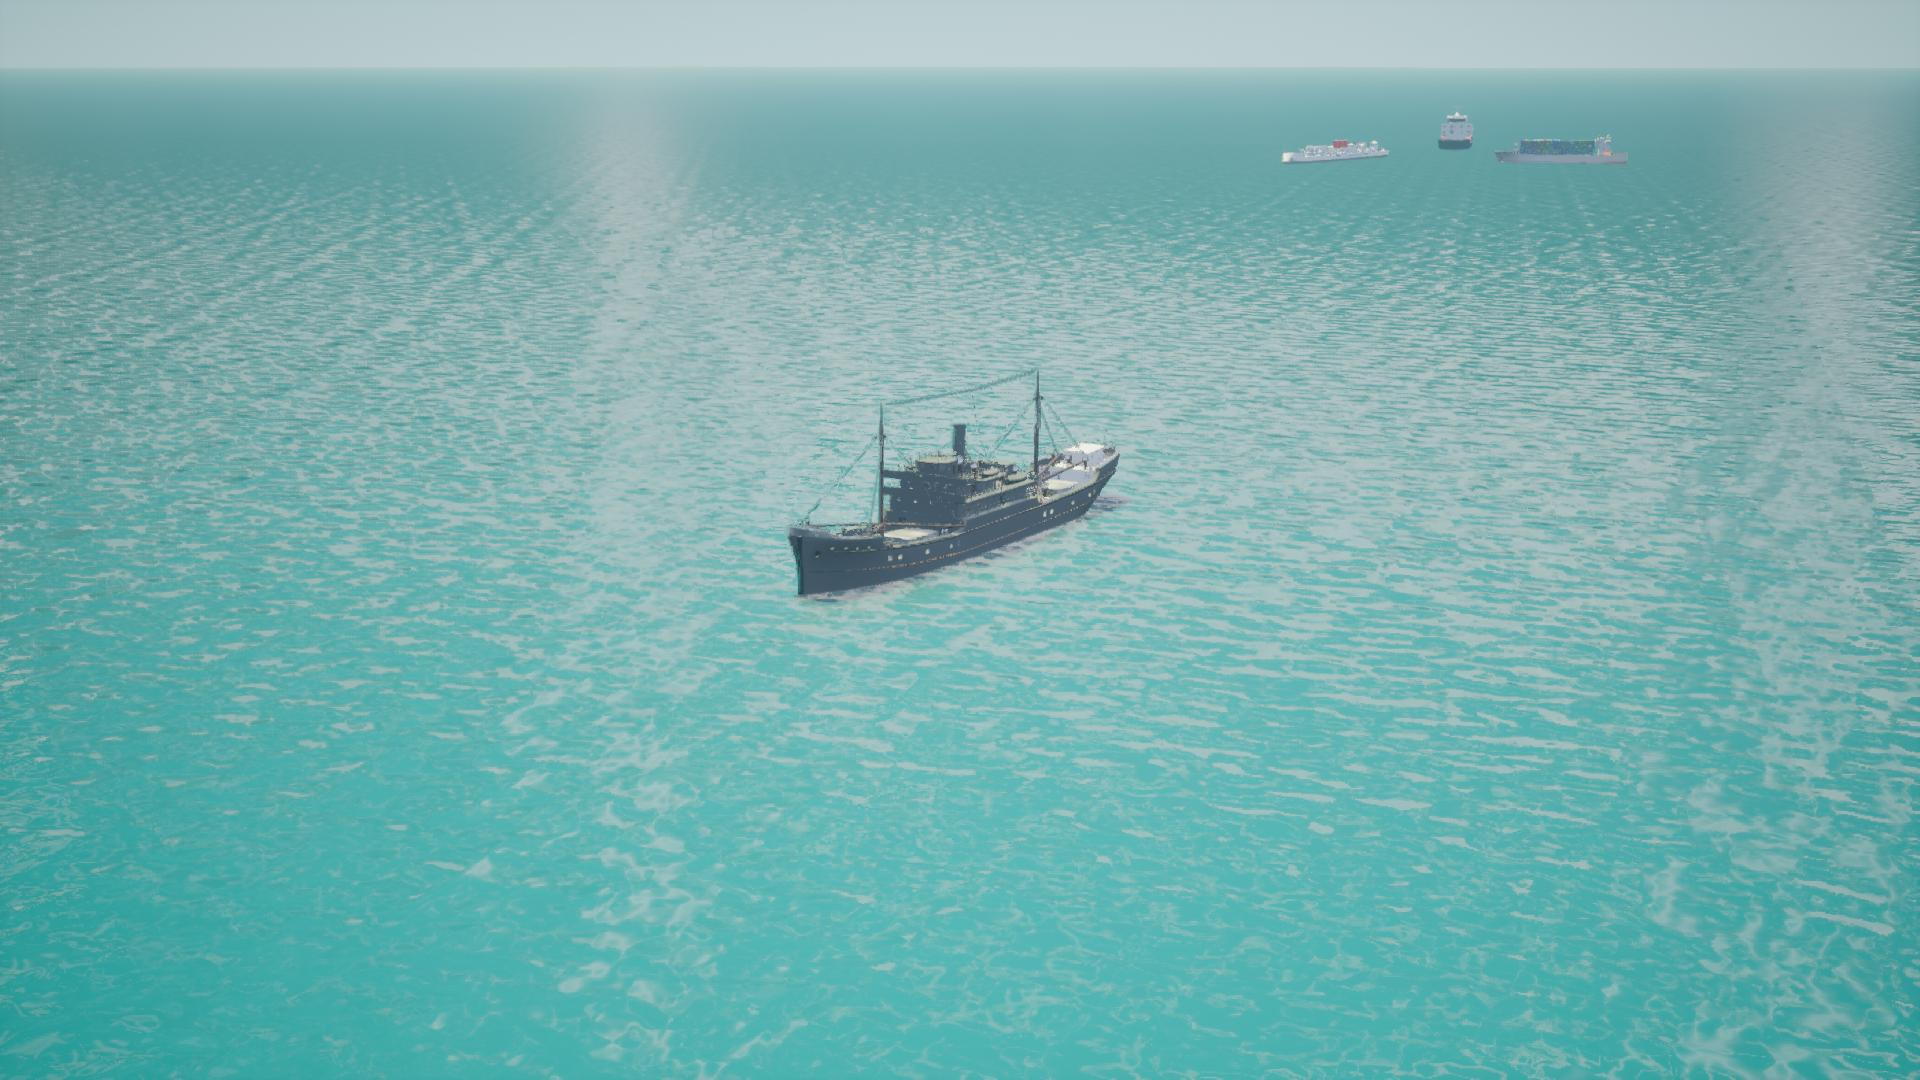Fishing Boat: (786, 411, 1120, 604), (1503, 136, 1630, 169), (1284, 140, 1393, 166), (1439, 109, 1476, 149)
